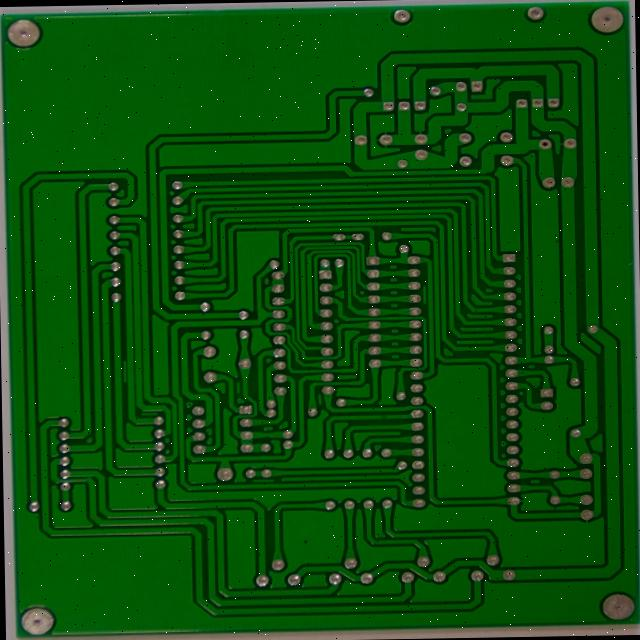spurious_copper: (119, 356, 131, 382), (417, 283, 430, 304), (249, 476, 277, 484), (230, 378, 242, 395), (315, 391, 325, 404)
